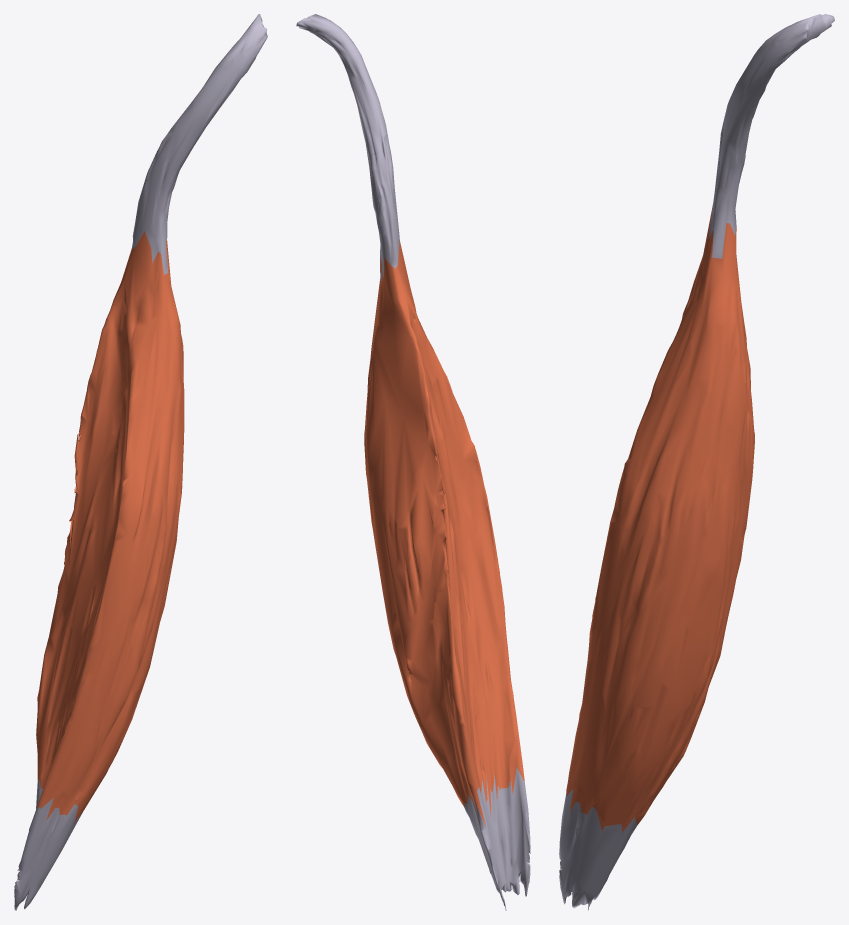
Rendered from Biceps_brachii_short_head_right.glb.
3 renders of one model, left to right at view 1: azimuth 30°, elevation 25°; view 2: azimuth 150°, elevation 25°; view 3: azimuth 330°, elevation 25°, orthographic. The views are drawn at different scales.
Parts seen in each view (by area): view 1: Short_head_of_biceps_brachii.r_Generated_Mesh_From_X3D.216; view 2: Short_head_of_biceps_brachii.r_Generated_Mesh_From_X3D.216; view 3: Short_head_of_biceps_brachii.r_Generated_Mesh_From_X3D.216.
Part boxes in pixels (x1,y1,x2,y2): Short_head_of_biceps_brachii.r_Generated_Mesh_From_X3D.216: (14, 14, 267, 910); Short_head_of_biceps_brachii.r_Generated_Mesh_From_X3D.216: (296, 14, 530, 910); Short_head_of_biceps_brachii.r_Generated_Mesh_From_X3D.216: (559, 14, 834, 910).
Bounding box in the file's own units: 0.0815 × 0.2731 × 0.0344.
